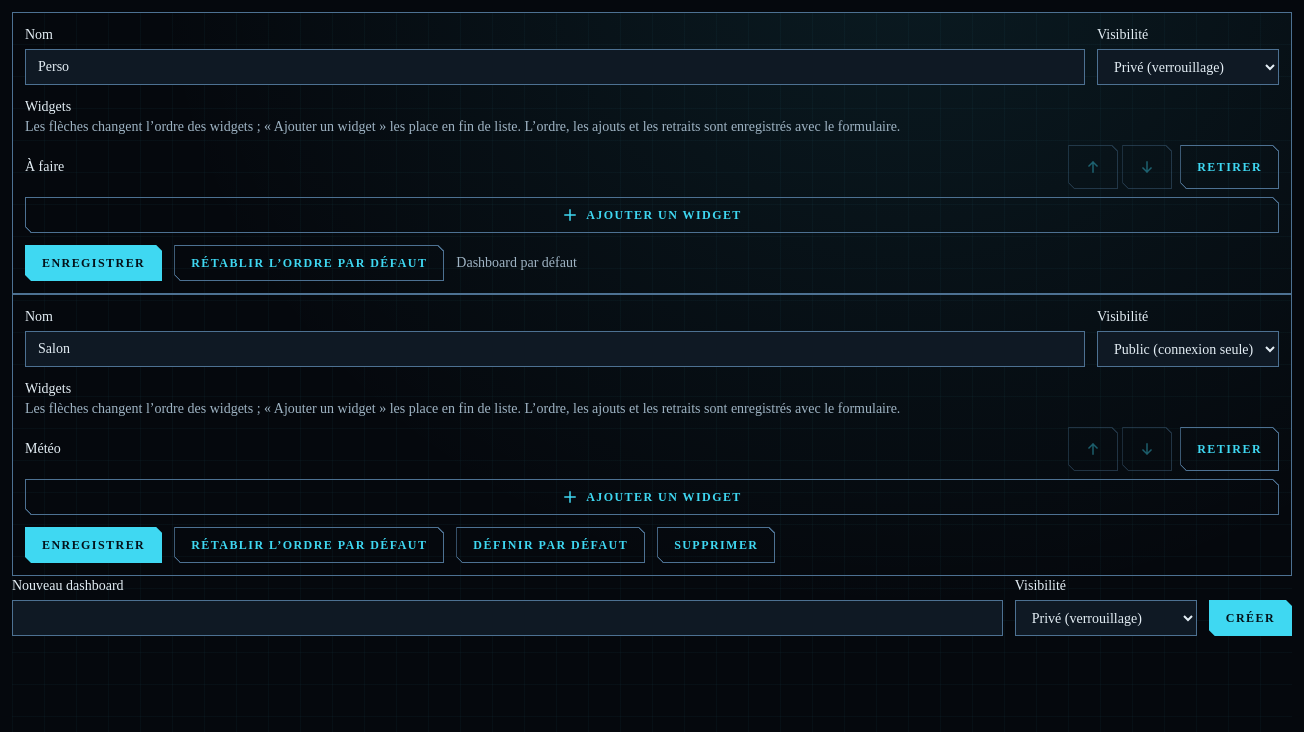
Test case: DashboardForms › n’affiche que le dernier message, même avec des horodatages égaux
The image size is (1304, 732).
Click the button "Enregistrer" below "Météo": (94, 545) [25, 527, 162, 563]
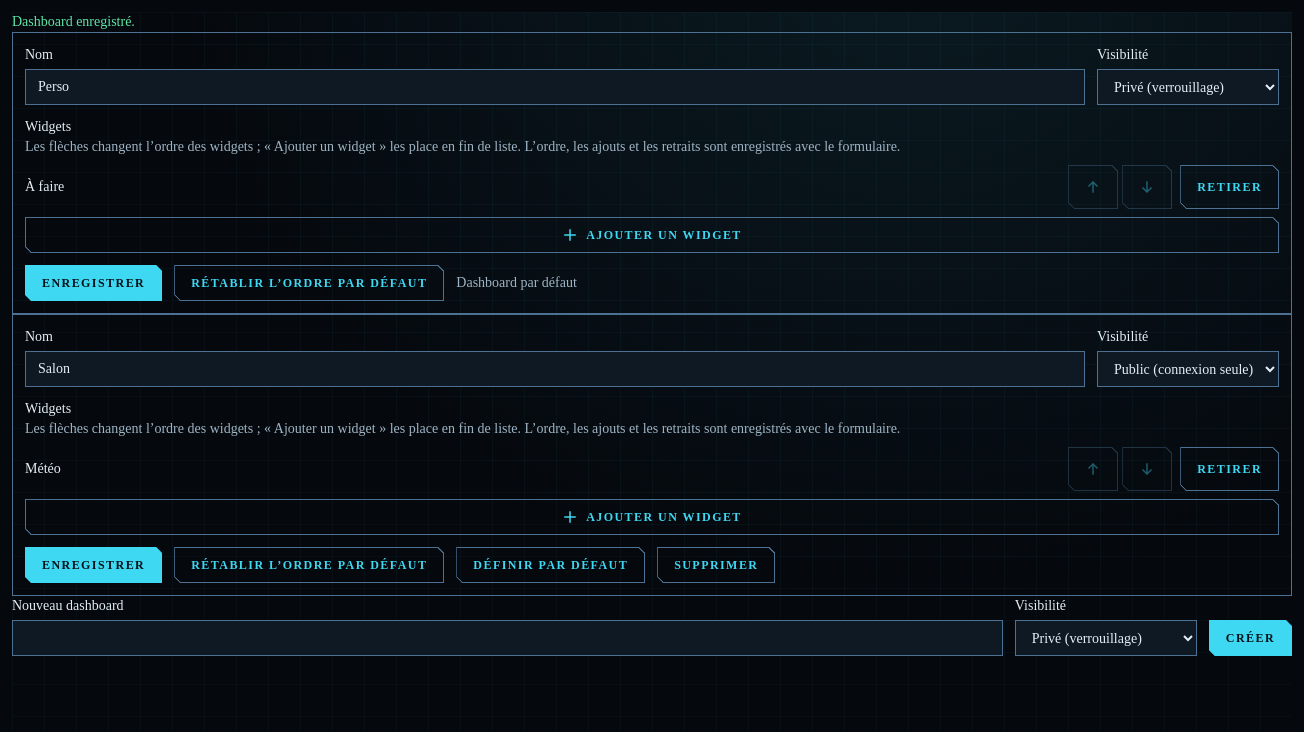
Now the text "Dashboard enregistré." is shown, box [12, 14, 135, 29]
Click the button "Définir par défaut": (551, 565) [456, 547, 645, 583]
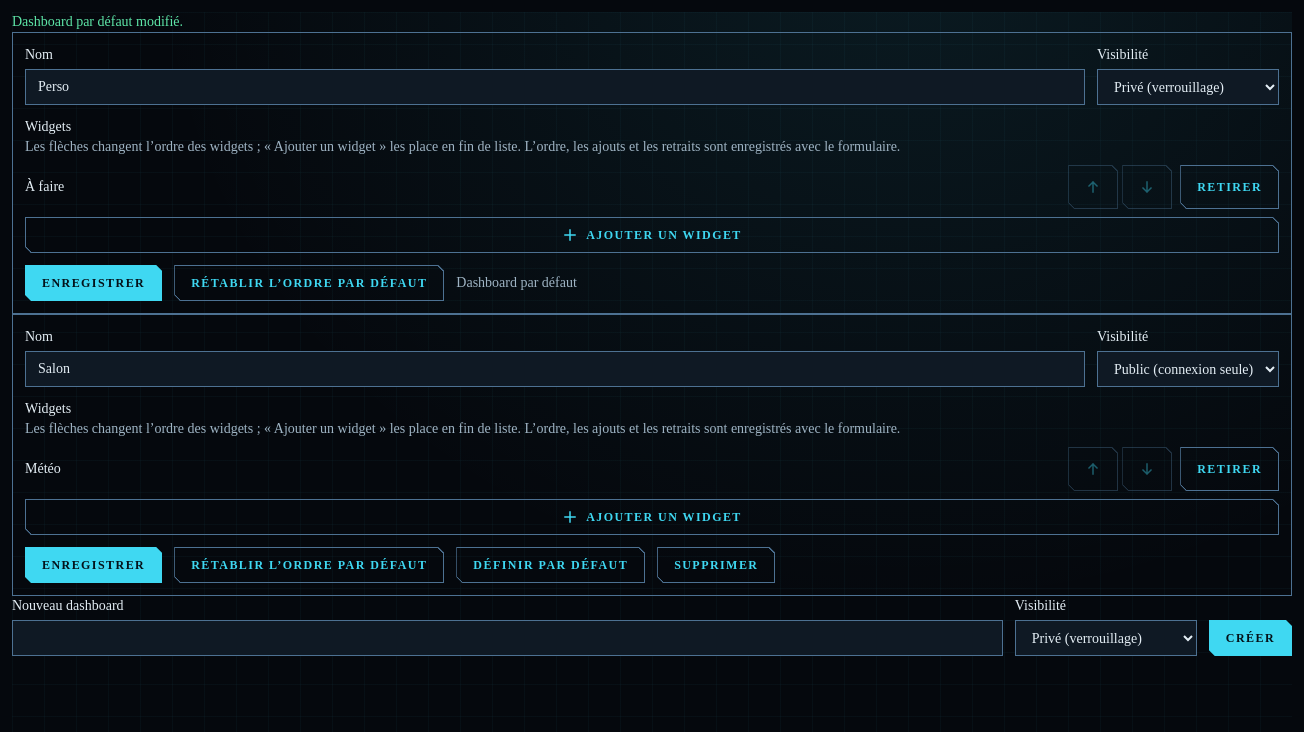
Now the number of messages is 1, box [12, 14, 183, 29]
Now the text "Dashboard enregistré." is gone
